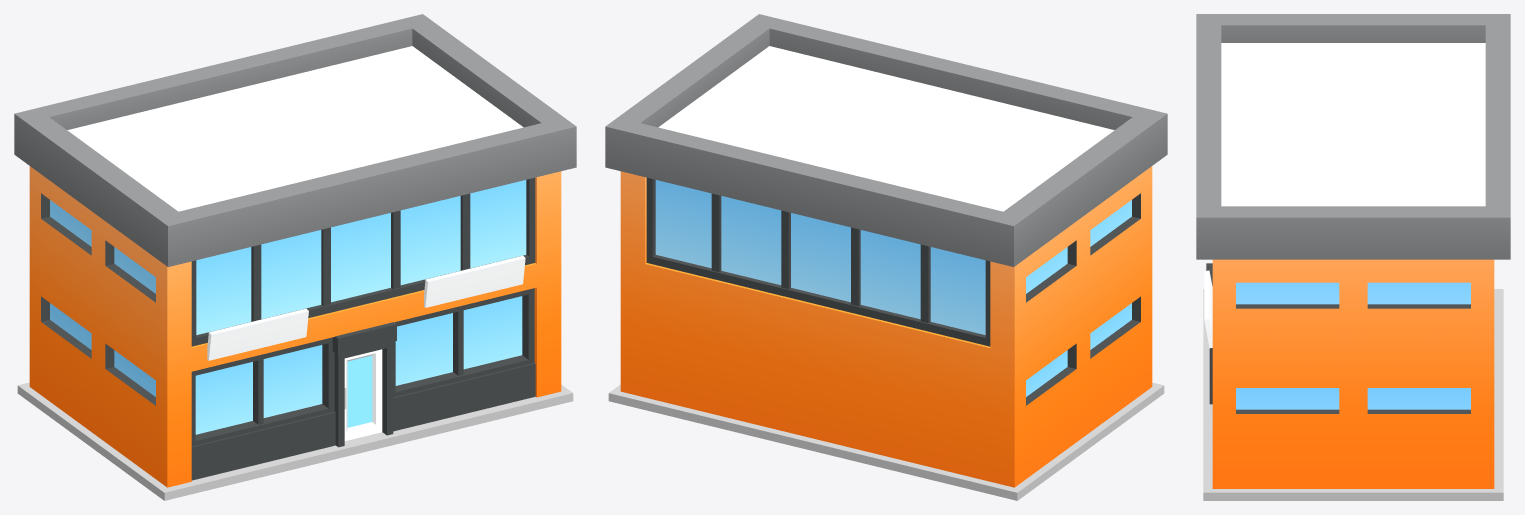
The model's file is city2-building-supermarket-01.glb.
3 views of the same model, side by side, from view 1: azimuth 30°, elevation 25°; view 2: azimuth 150°, elevation 25°; view 3: azimuth 270°, elevation 25° (orthographic). The views are drawn at different scales.
Visible parts, largest first — view 1: Building_Supermarket_01; view 2: Building_Supermarket_01; view 3: Building_Supermarket_01.
Boxes of the visible parts, x1,y1,x2,y2 form: Building_Supermarket_01: (14, 14, 576, 500); Building_Supermarket_01: (605, 14, 1167, 500); Building_Supermarket_01: (1196, 14, 1510, 500).
Bounding box in the file's own units: 10.53 × 6.82 × 6.86.
1 material, 1 textured.
